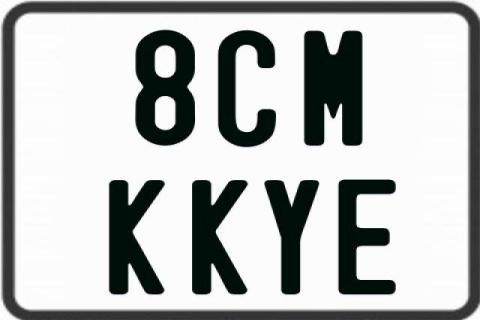0: (135, 29, 198, 147)
C: (215, 31, 274, 149)
E: (338, 178, 402, 294)
K: (108, 180, 170, 294), (189, 178, 249, 294)
M: (302, 30, 361, 146)
Y: (265, 178, 320, 296)
